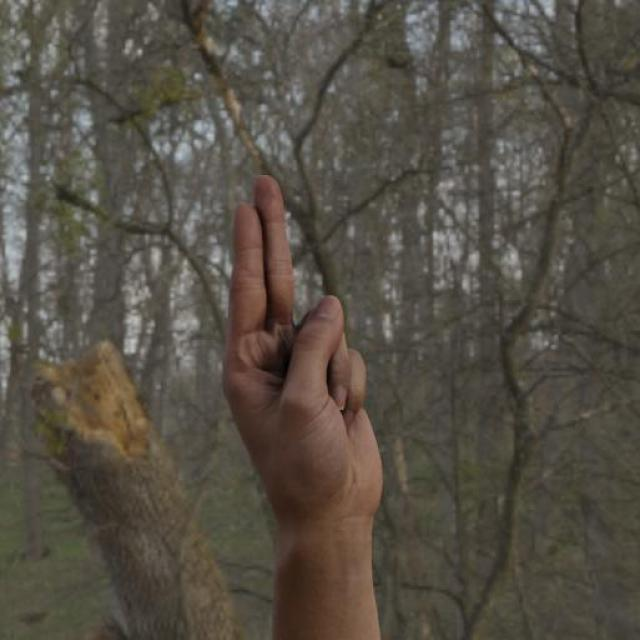U: (217, 170, 391, 520)
